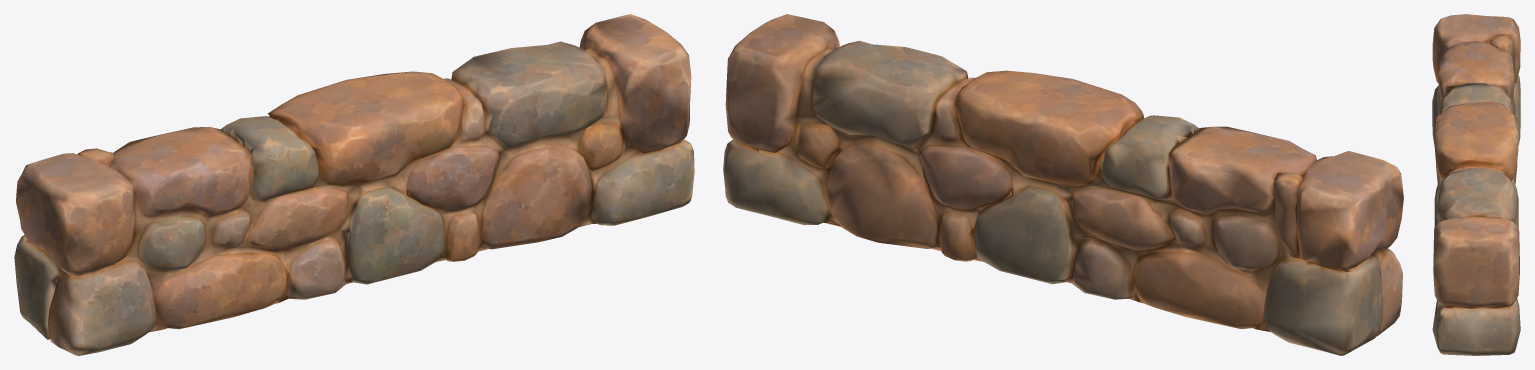
File: stone_retaining_wall.glb
3 views of the same model, side by side, from view 1: azimuth 30°, elevation 25°; view 2: azimuth 150°, elevation 25°; view 3: azimuth 270°, elevation 25° (orthographic). The views are drawn at different scales.
Visible parts, largest first — view 1: stone_retaining_wall; view 2: stone_retaining_wall; view 3: stone_retaining_wall.
Part boxes in pixels (box(x1,y1,x2,y2)): stone_retaining_wall: box(14, 14, 694, 355); stone_retaining_wall: box(723, 14, 1403, 355); stone_retaining_wall: box(1432, 14, 1520, 355).
Size of the model in its own units: 2.41 by 0.6 by 0.3918.
Materials: 1 (1 with a texture image).
